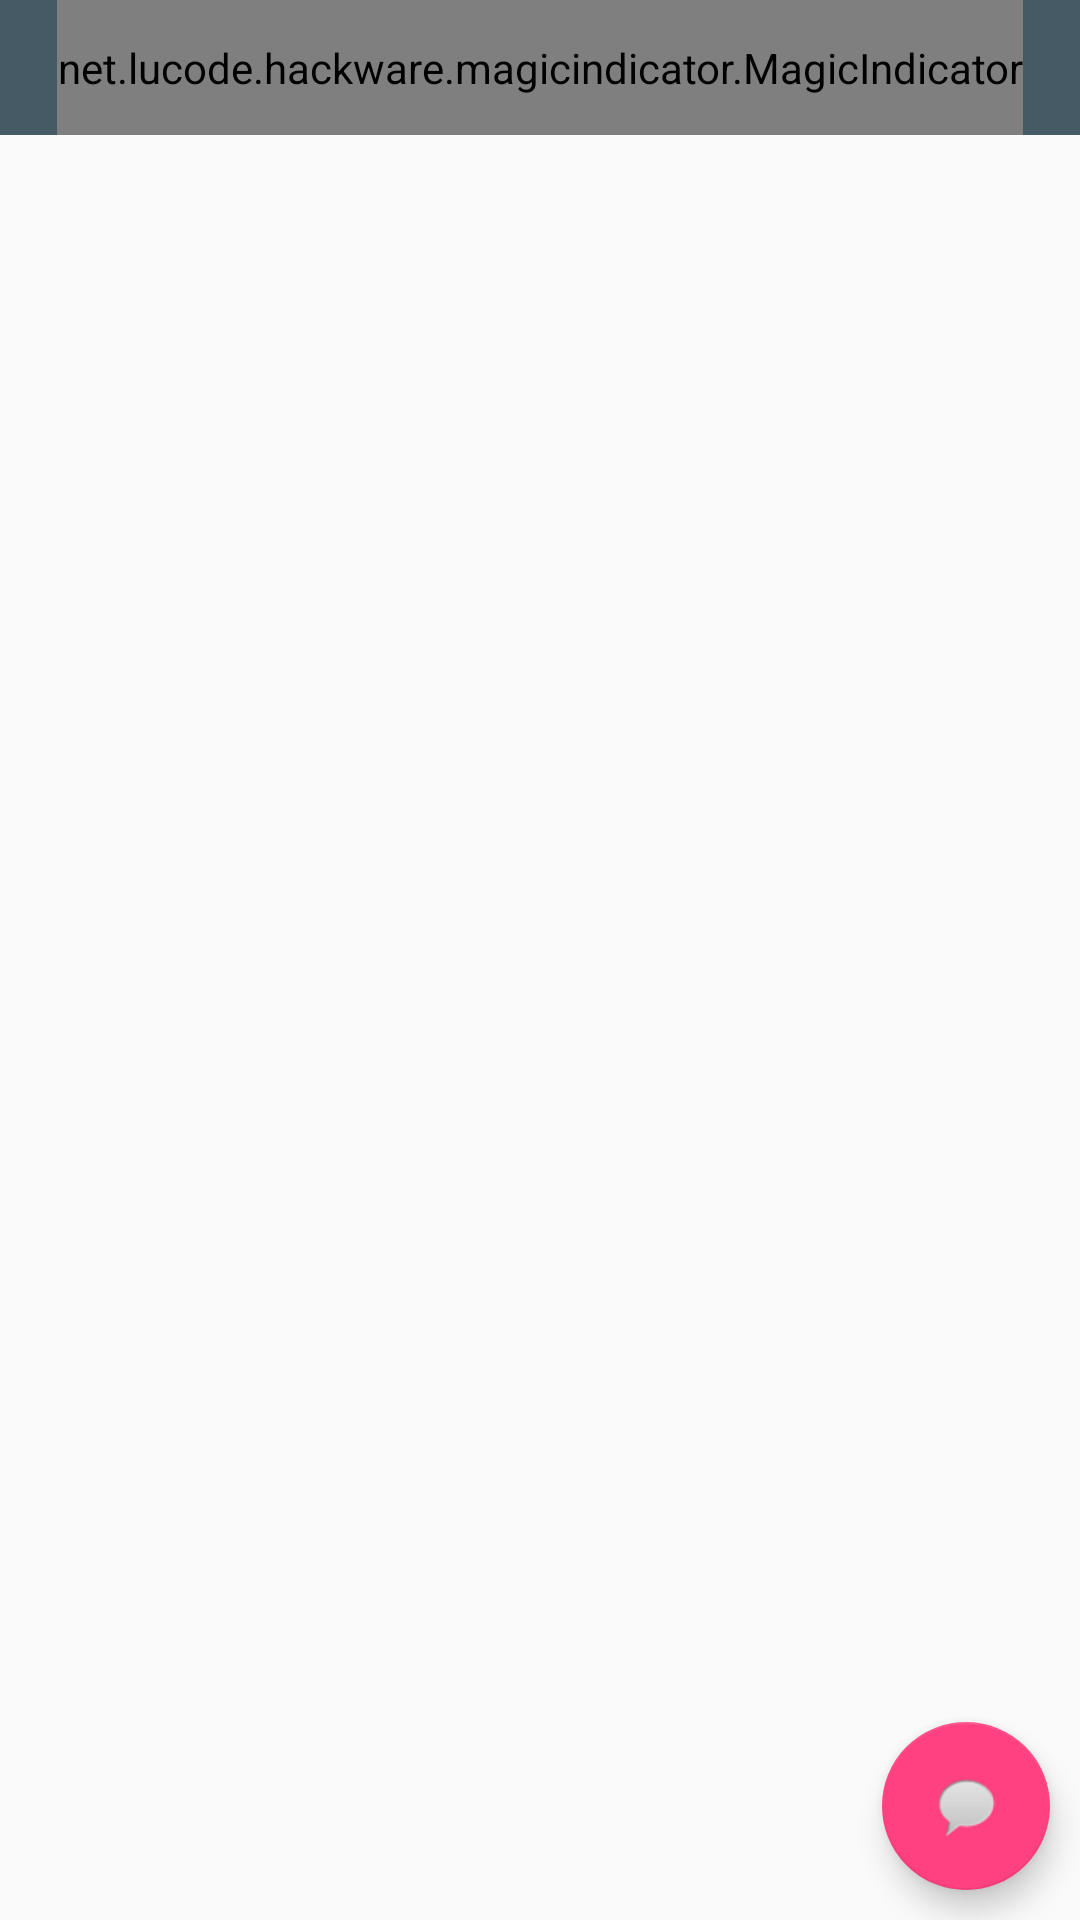

Icon bounding boxes for this 1080×1920 phone screenshot, format (x1, y1, x2, y2):
sym action chat: (882, 1722, 1050, 1890)
